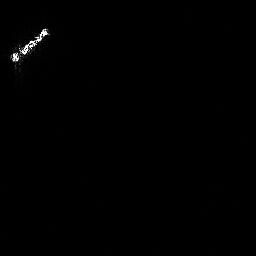ship: (5, 25, 53, 67)
